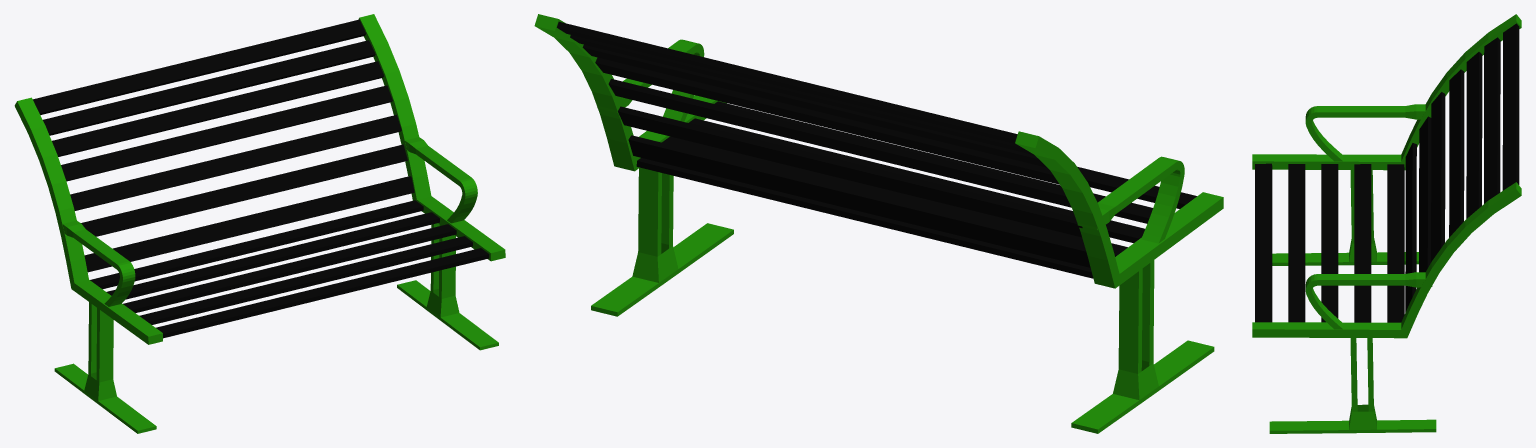
The model's file is Bench_SH.fbx.
3 views of the same model, side by side, from view 1: azimuth 30°, elevation 25°; view 2: azimuth 150°, elevation 25°; view 3: azimuth 270°, elevation 25° (orthographic). The views are drawn at different scales.
Parts seen in each view (by area): view 1: Bench_SH; view 2: Bench_SH; view 3: Bench_SH.
Part boxes in pixels (<box>): Bench_SH: <box>14,14,505,433</box>; Bench_SH: <box>534,14,1223,433</box>; Bench_SH: <box>1252,14,1521,433</box>.
Bounding box in the file's own units: 182 × 117 × 117.
